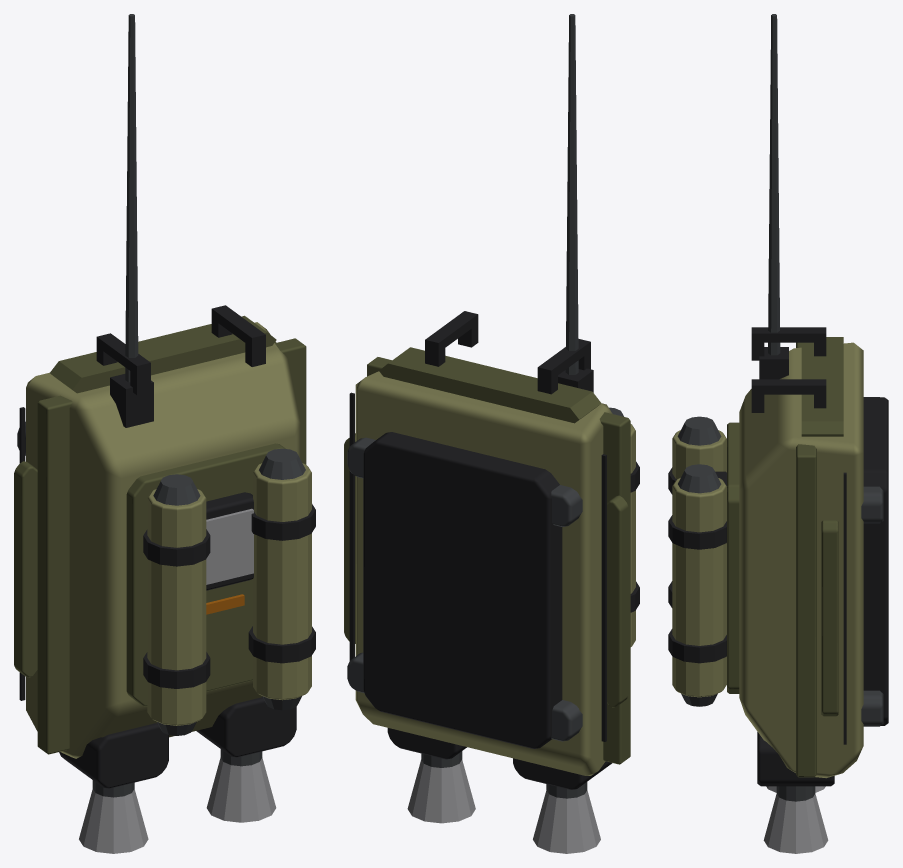
The model's file is backpack_light.glb.
3 views of the same model, side by side, from view 1: azimuth 30°, elevation 25°; view 2: azimuth 150°, elevation 25°; view 3: azimuth 270°, elevation 25° (orthographic). The views are drawn at different scales.
Parts seen in each view (by area): view 1: Body, BodyBand, BackPlate, Tank0, Tank1, TopCap, SidePlateL, NozzleHousing0, NozzleHousing1, Antenna0, Nozzle1, Nozzle0 (+12 smaller); view 2: MountPlate, Body, TopCap, BodyBand, SidePlateL, Antenna0, Nozzle0, Nozzle1, SideSeamL, Clamp0, Clamp1, SideSeamR (+7 smaller); view 3: Body, Tank1, MountPlate, BodyBand, SidePlateR, BackPlate, TopCap, Antenna0, Nozzle1, NozzleHousing1, Tank0, HandleBar1 (+10 smaller).
Part boxes in pixels (x1=…): Body: x1=26, y1=322, x2=300, y2=758; BodyBand: x1=37, y1=338, x2=306, y2=754; BackPlate: x1=126, y1=443, x2=285, y2=706; Tank0: x1=147, y1=489, x2=206, y2=725; Tank1: x1=253, y1=463, x2=311, y2=700; TopCap: x1=50, y1=315, x2=276, y2=393; SidePlateL: x1=14, y1=461, x2=37, y2=677; NozzleHousing0: x1=59, y1=723, x2=168, y2=788; NozzleHousing1: x1=196, y1=697, x2=296, y2=757; Antenna0: x1=125, y1=14, x2=138, y2=382; Nozzle1: x1=206, y1=758, x2=276, y2=822; Nozzle0: x1=79, y1=789, x2=148, y2=853; MountPlate: x1=363, y1=432, x2=562, y2=748; Body: x1=355, y1=371, x2=612, y2=775; TopCap: x1=379, y1=347, x2=601, y2=423; BodyBand: x1=367, y1=357, x2=630, y2=764; SidePlateL: x1=607, y1=495, x2=628, y2=707; Antenna0: x1=565, y1=14, x2=578, y2=374; Nozzle0: x1=533, y1=790, x2=600, y2=853; Nozzle1: x1=407, y1=760, x2=475, y2=823; SideSeamL: x1=601, y1=454, x2=606, y2=741; Clamp0: x1=347, y1=437, x2=582, y2=526; Clamp1: x1=347, y1=652, x2=582, y2=741; SideSeamR: x1=349, y1=392, x2=354, y2=660; Body: x1=739, y1=342, x2=863, y2=778; Tank1: x1=672, y1=478, x2=726, y2=697; MountPlate: x1=863, y1=397, x2=888, y2=725; BodyBand: x1=796, y1=342, x2=816, y2=777; SidePlateR: x1=821, y1=520, x2=838, y2=716; BackPlate: x1=727, y1=422, x2=739, y2=693; TopCap: x1=801, y1=337, x2=843, y2=436; Antenna0: x1=768, y1=14, x2=780, y2=355; Nozzle1: x1=763, y1=794, x2=828, y2=853; NozzleHousing1: x1=757, y1=732, x2=834, y2=786; Tank0: x1=672, y1=430, x2=726, y2=479; HandleBar1: x1=751, y1=379, x2=826, y2=394.
Size of the model in its own units: 1.22 by 3.42 by 0.885.
